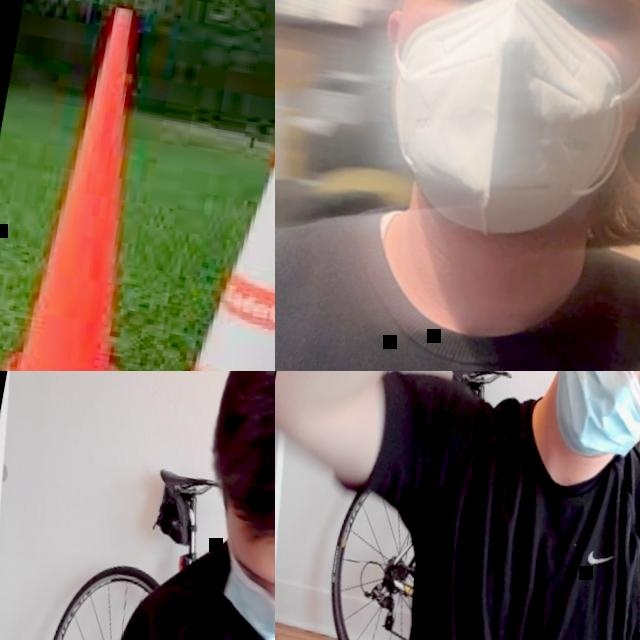Mask: (366, 0, 640, 253), (543, 371, 640, 466), (212, 540, 275, 640)
NO-Hardhat: (191, 371, 275, 542)
NO-Safety Vest: (275, 191, 640, 371), (398, 411, 640, 640), (112, 523, 275, 640)
Person: (275, 0, 640, 371), (350, 371, 640, 640), (68, 371, 275, 640)
Safety Cone: (6, 0, 179, 371), (107, 0, 275, 371)
